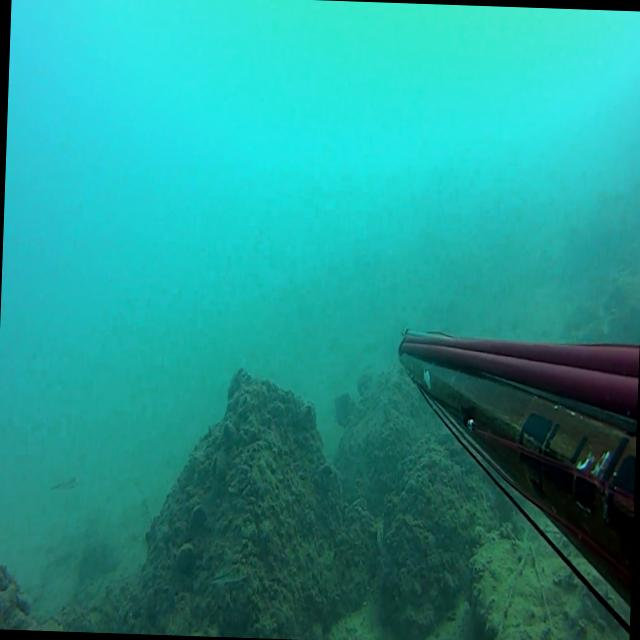Balon Baligi: (192, 560, 246, 588), (48, 476, 78, 492)
